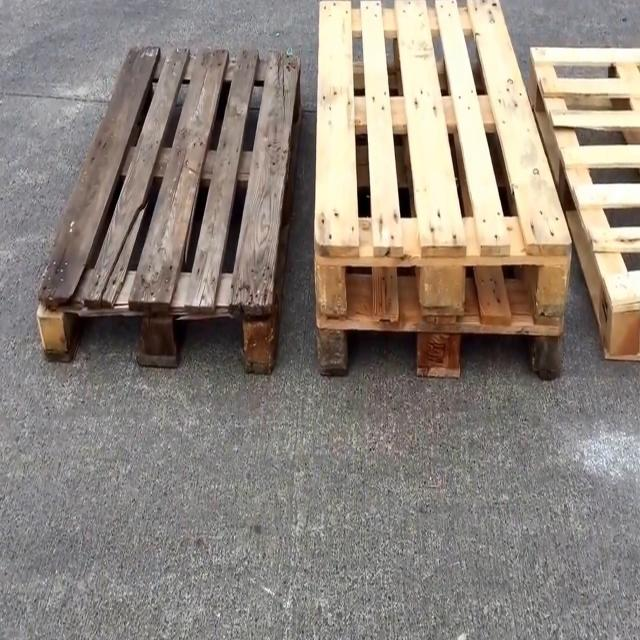Palette: (310, 0, 576, 388), (31, 37, 308, 370)
